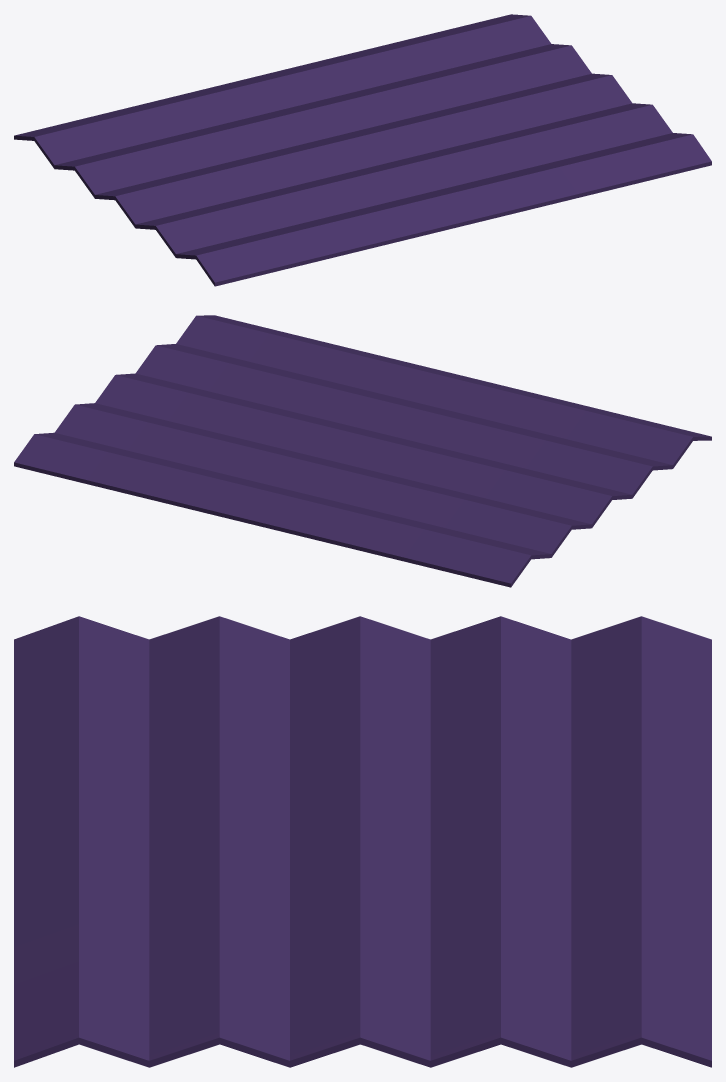
The model's file is SheetMetal_D_1.glb.
3 renders of one model, top to bottom at view 1: azimuth 30°, elevation 25°; view 2: azimuth 150°, elevation 25°; view 3: azimuth 270°, elevation 25°, orthographic. The views are drawn at different scales.
Parts seen in each view (by area): view 1: SheetMetal_D_1; view 2: SheetMetal_D_1; view 3: SheetMetal_D_1.
Part boxes in pixels (x1,y1,x2,y2): SheetMetal_D_1: [14, 14, 711, 286]; SheetMetal_D_1: [14, 315, 711, 587]; SheetMetal_D_1: [14, 616, 711, 1067].
Bounding box in the file's own units: 1.37 × 0.0458 × 0.9605.
Materials: 1 (1 with a texture image).
